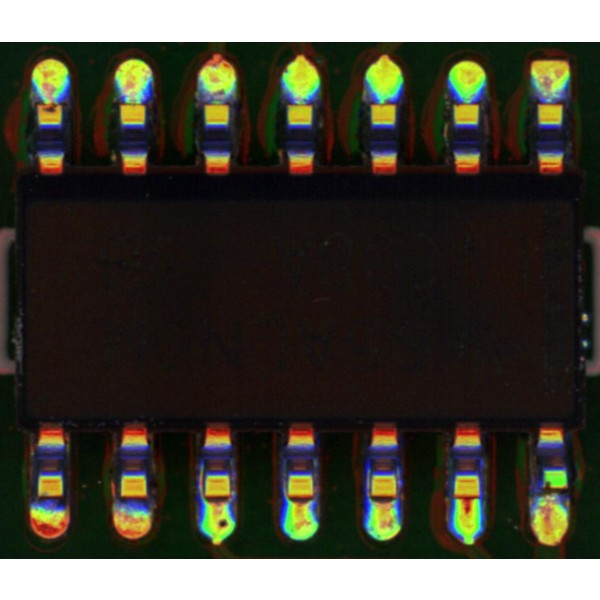Bad_podu: (455, 489, 480, 514), (288, 489, 312, 511), (372, 489, 397, 510), (206, 491, 230, 512)
Bad_qiaojiao: (196, 459, 207, 497), (280, 458, 289, 497), (365, 462, 373, 495)
